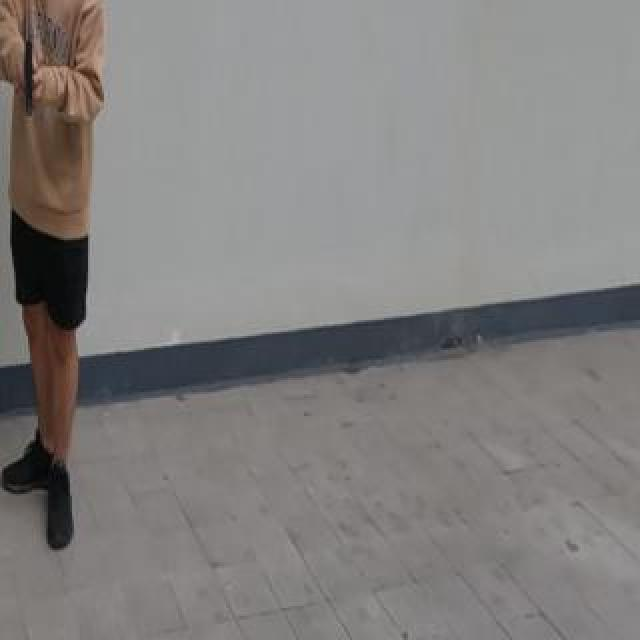Guns: (13, 24, 43, 113)
